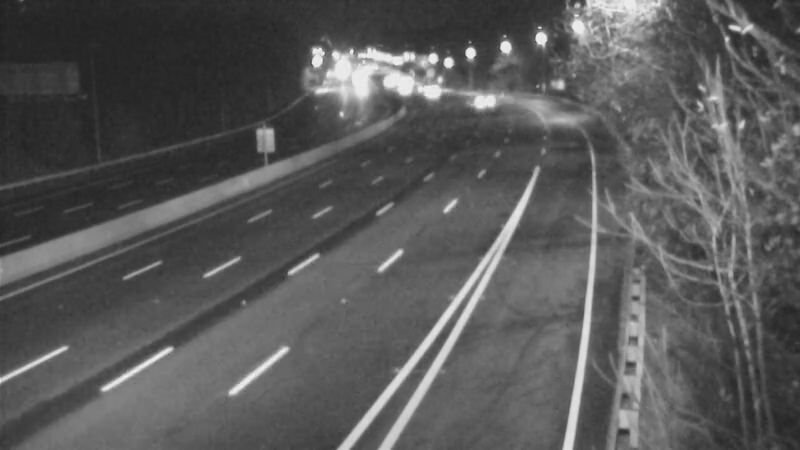vehicle: (410, 67, 460, 117), (456, 75, 506, 125)
